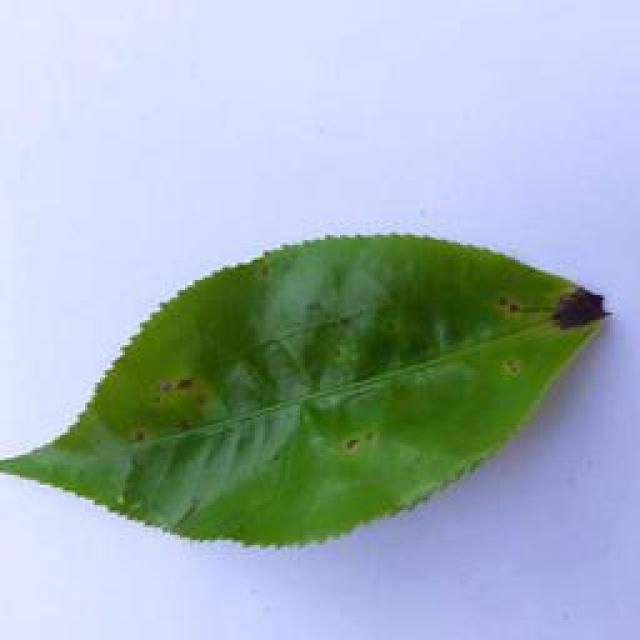Helopeltis: (32, 228, 622, 546)
